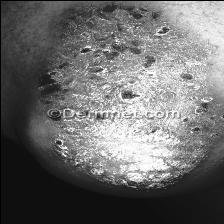Non-Cancerous Skin Condition: (14, 0, 216, 94), (98, 122, 192, 190)
